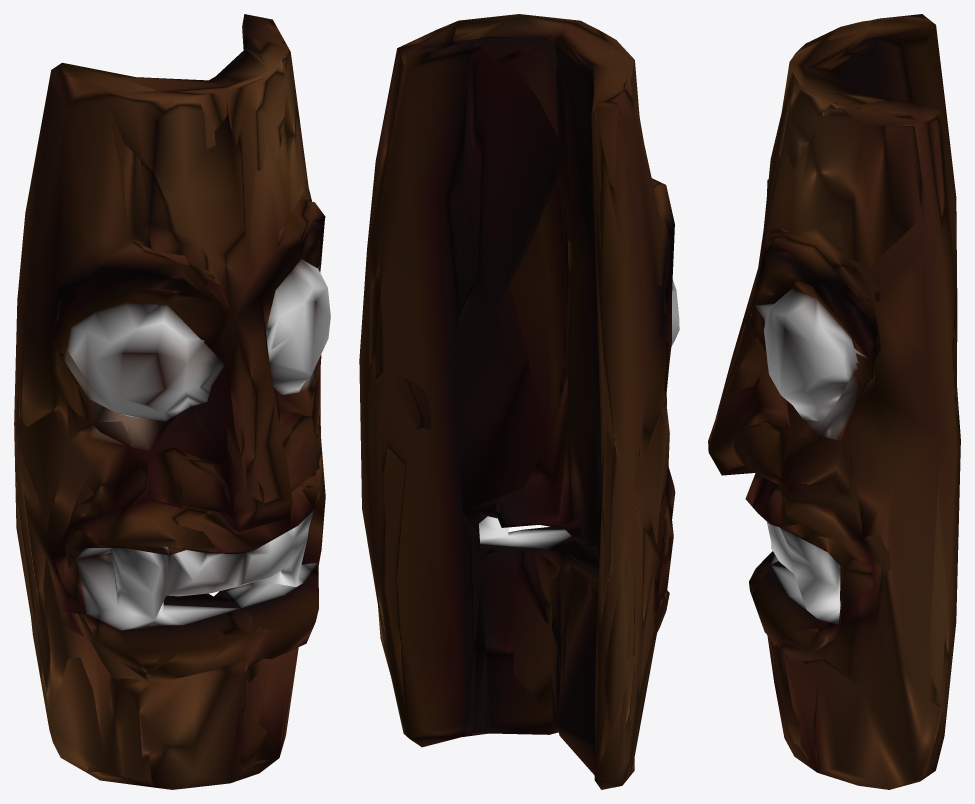
The model's file is gen3d-tiki-mask-lod0.glb.
3 renders of one model, left to right at view 1: azimuth 30°, elevation 25°; view 2: azimuth 150°, elevation 25°; view 3: azimuth 270°, elevation 25°, orthographic. The views are drawn at different scales.
Visible parts, largest first — view 1: part_0; view 2: part_0; view 3: part_0.
Boxes of the visible parts, box(x1,y1,x2,y2) form: part_0: box(14, 14, 330, 789); part_0: box(359, 14, 679, 789); part_0: box(708, 14, 960, 789).
Bounding box in the file's own units: 0.4112 × 0.9969 × 0.3351.
